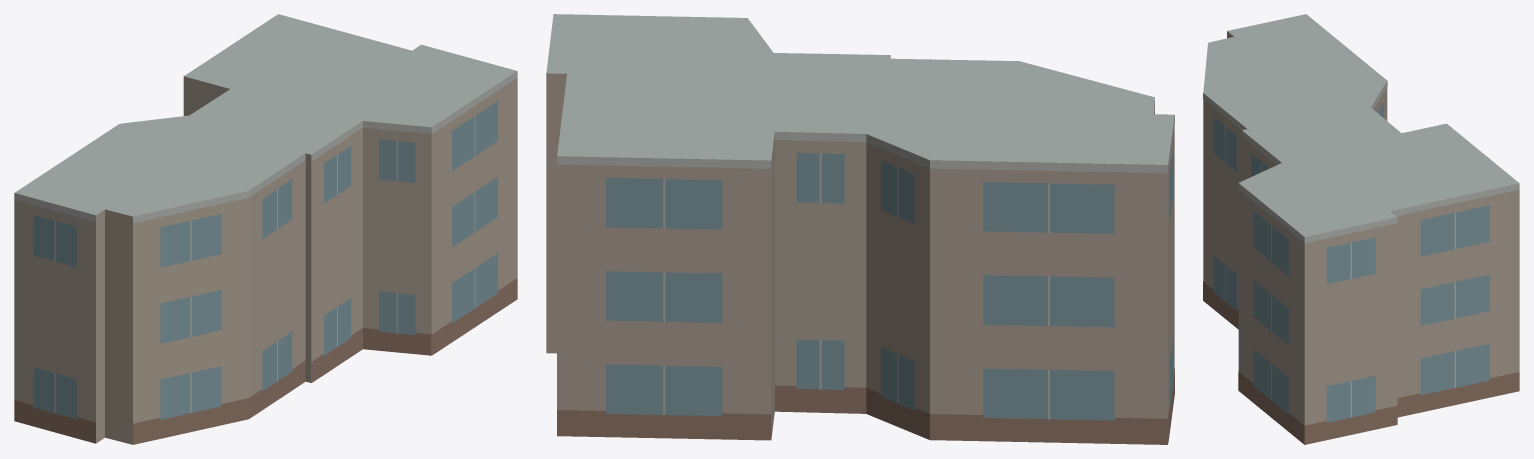
File: survey-upis-32502412.glb
3 views of the same model, side by side, from view 1: azimuth 30°, elevation 25°; view 2: azimuth 150°, elevation 25°; view 3: azimuth 270°, elevation 25° (orthographic). The views are drawn at different scales.
Visible parts, largest first — view 1: survey-upis-32502412.tmp; view 2: survey-upis-32502412.tmp; view 3: survey-upis-32502412.tmp.
Part boxes in pixels (x1,y1,x2,y2): survey-upis-32502412.tmp: (14, 14, 517, 444); survey-upis-32502412.tmp: (546, 14, 1174, 444); survey-upis-32502412.tmp: (1203, 14, 1519, 444).
Bounding box in the file's own units: 18.89 × 8.2 × 11.33.
